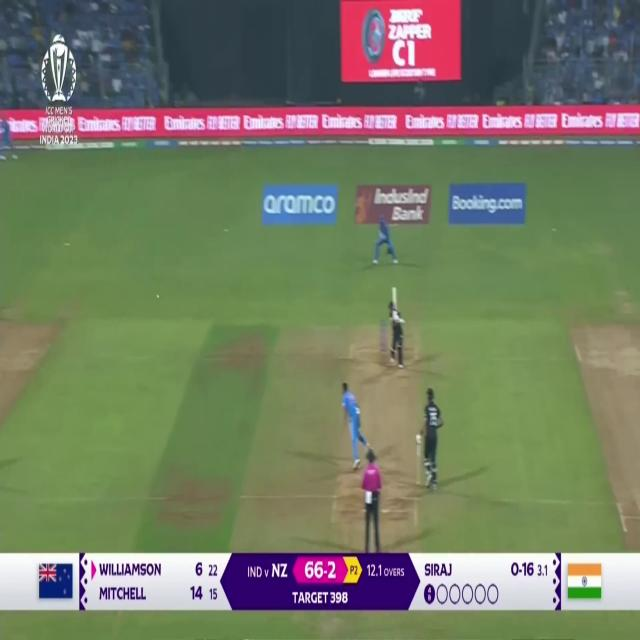Batsman: (378, 291, 418, 377)
